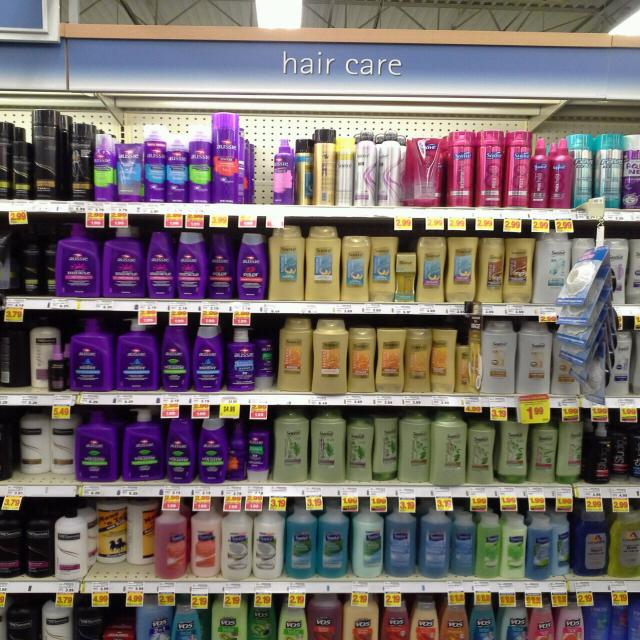unorganised: (94, 504, 154, 577), (20, 410, 74, 482), (28, 322, 62, 392), (18, 238, 55, 298), (374, 416, 401, 482), (431, 329, 457, 396), (550, 515, 573, 577), (252, 335, 277, 391), (294, 138, 314, 206), (610, 424, 630, 482)
